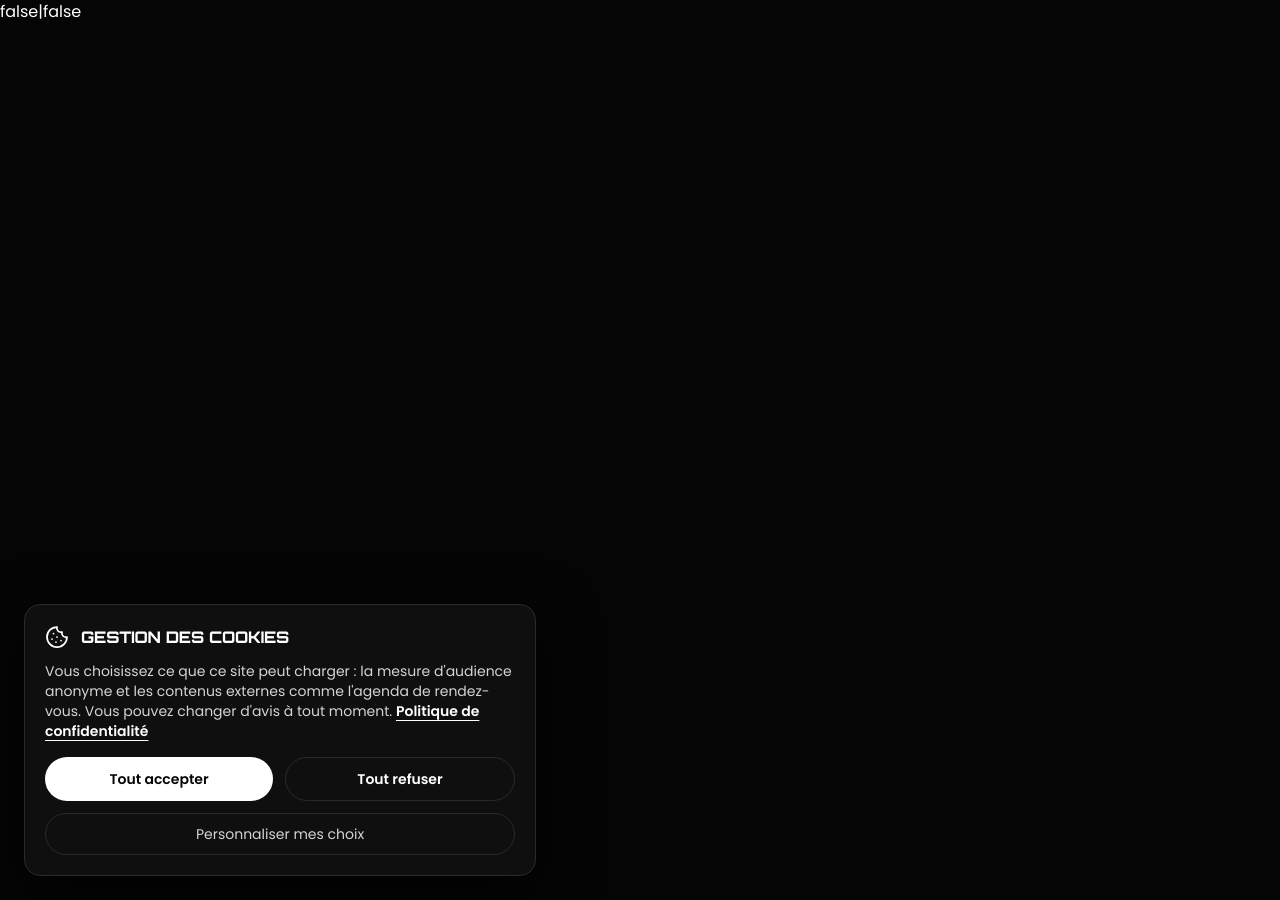
Test: CookieBanner › saves per-category choices from the customize panel
The image size is (1280, 900).
Click the button "Personnaliser mes choix" at (280, 834), box top-left (45, 813), bottom-right (515, 855)
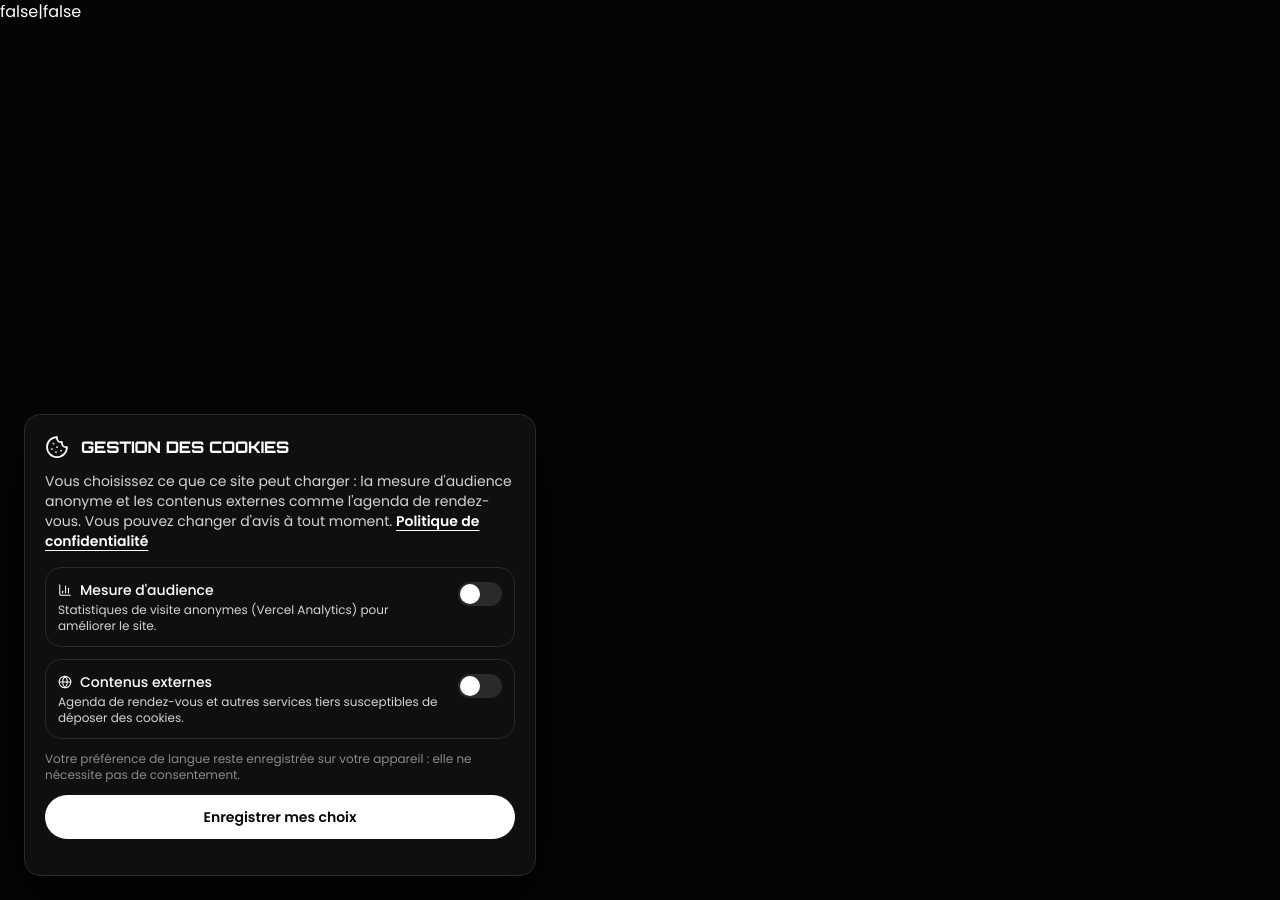
Click the switch named "Mesure d'audience" at (480, 594), box top-left (458, 582), bottom-right (502, 606)
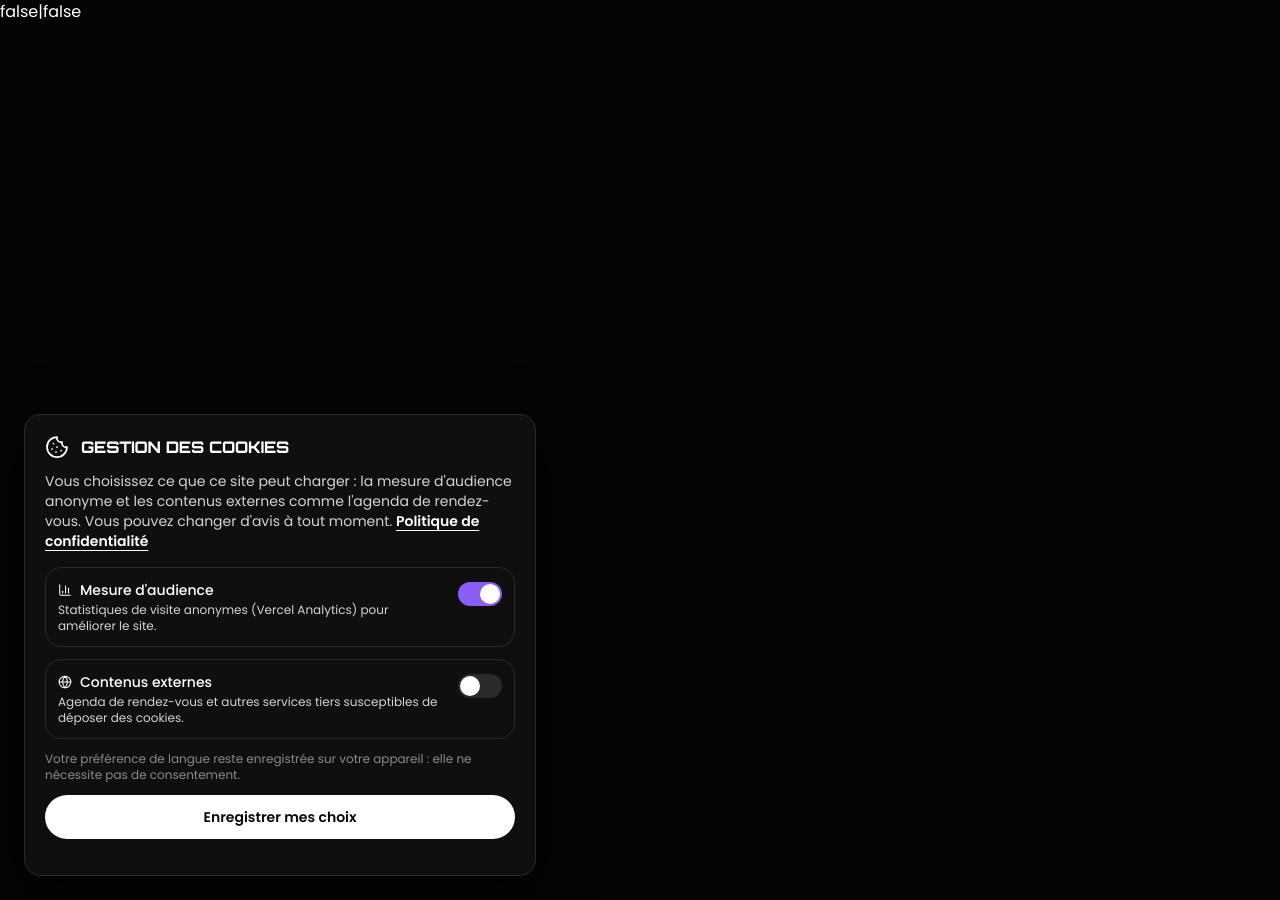
Click the button "Enregistrer mes choix" at (280, 817), box top-left (45, 795), bottom-right (515, 839)
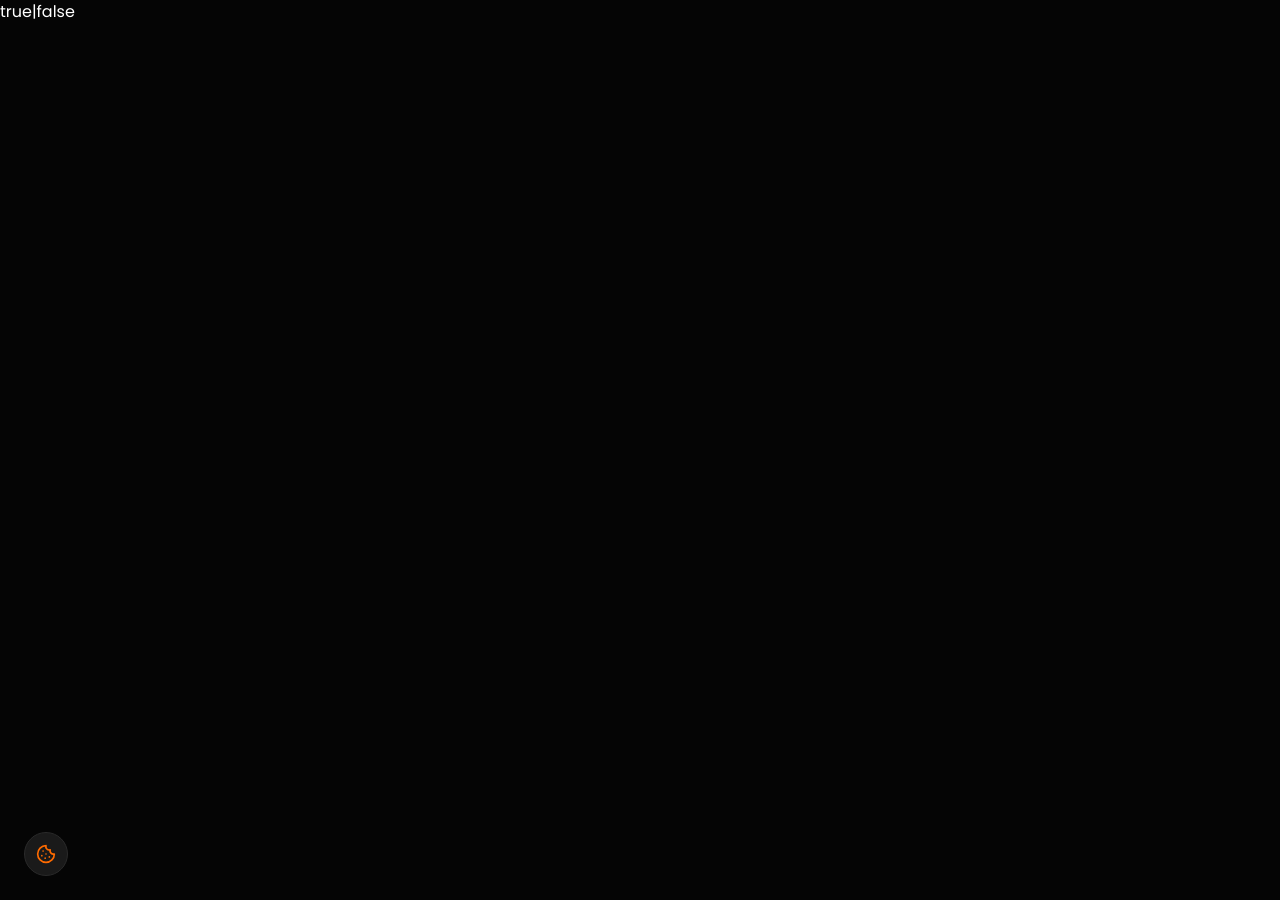
expect the text with test id "probe" reads "true|false": met, box top-left (0, 0), bottom-right (75, 23)
